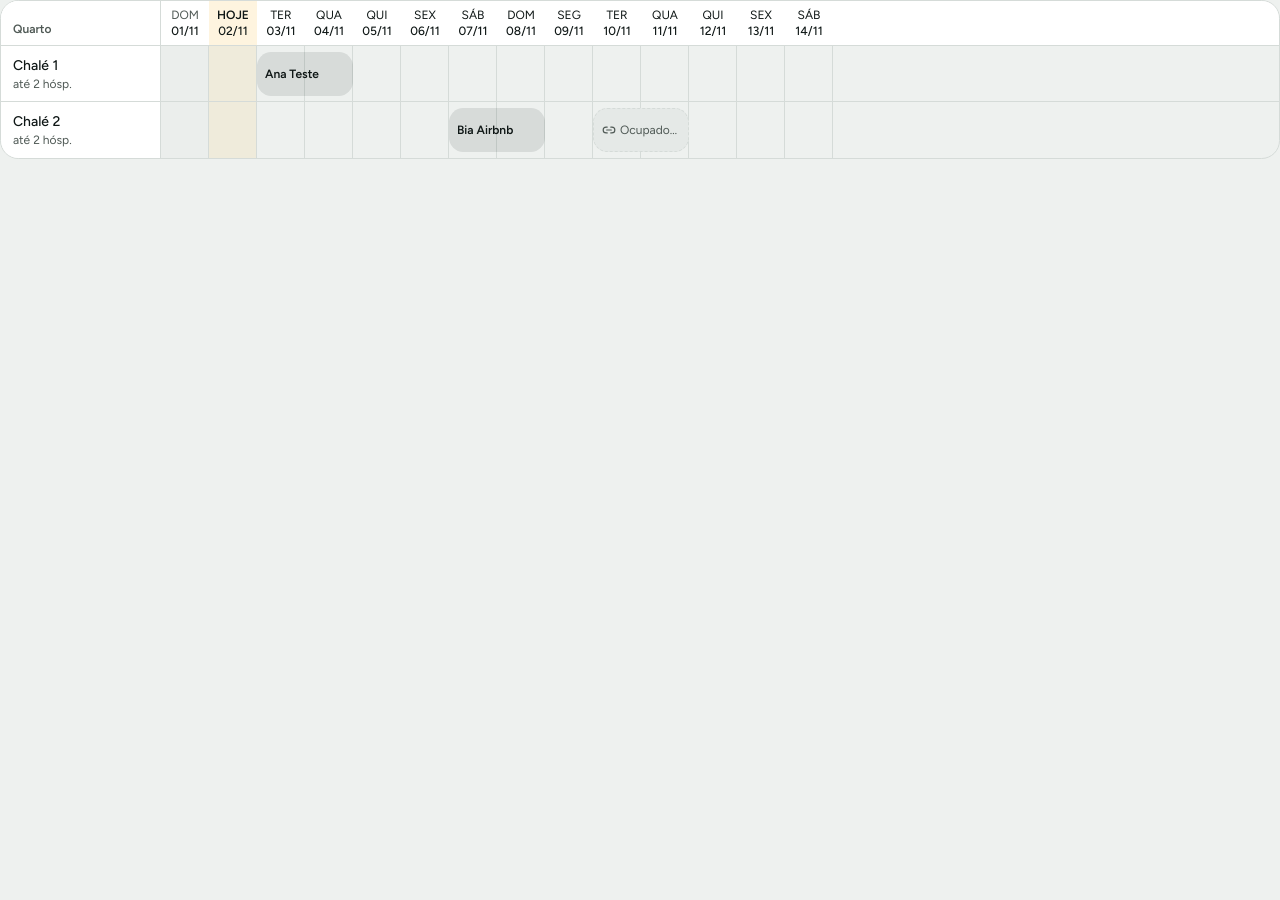
it: mapa de ocupação › escolher o valor novo manda só o pedido, nunca o número
Later steps or results of the test are not shown.
Click the button with aria-label "Ana Teste, Chalé 1". click: (305, 74)
box: [257, 52, 353, 96]
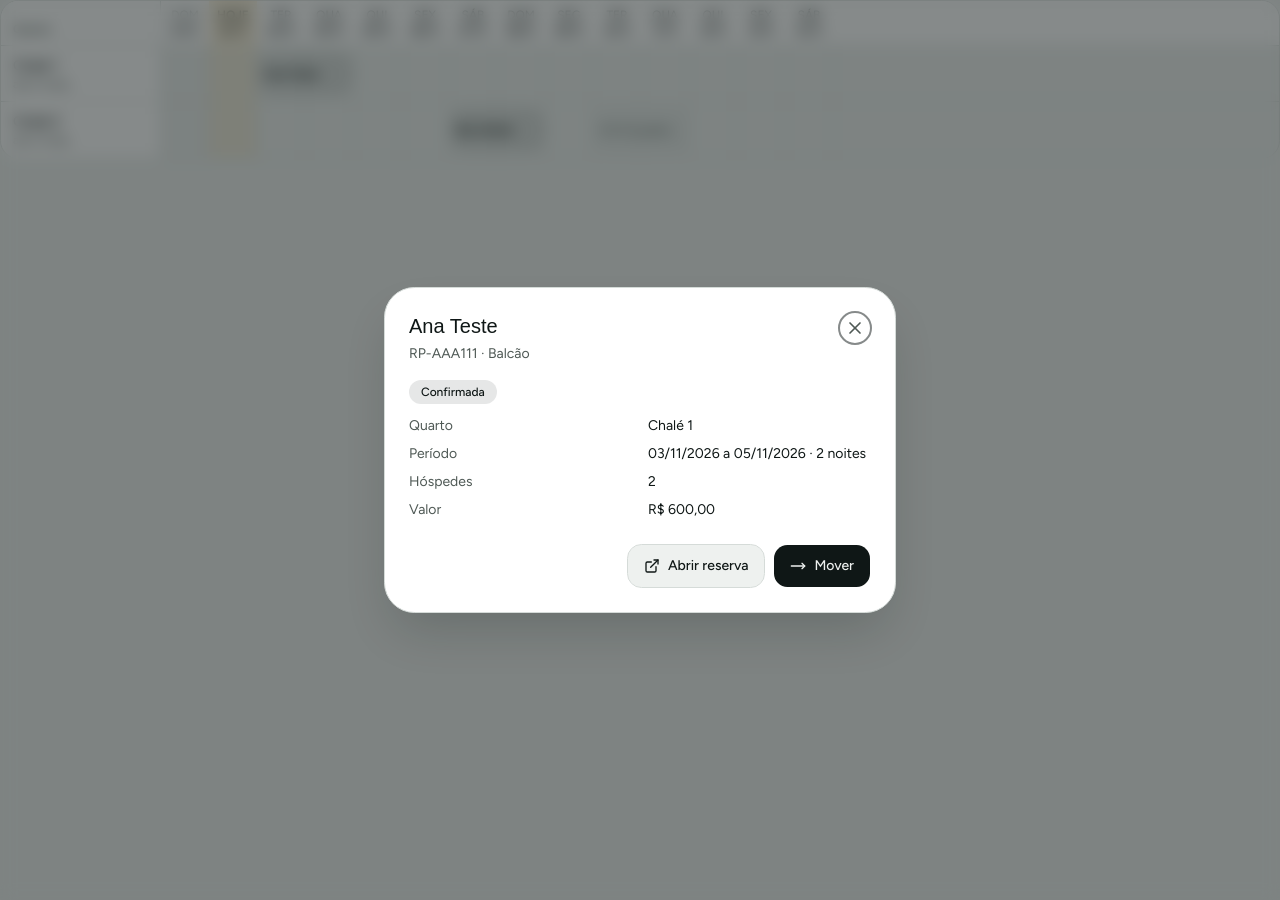
Click the button "Mover". click: (822, 566)
box: [773, 544, 871, 588]
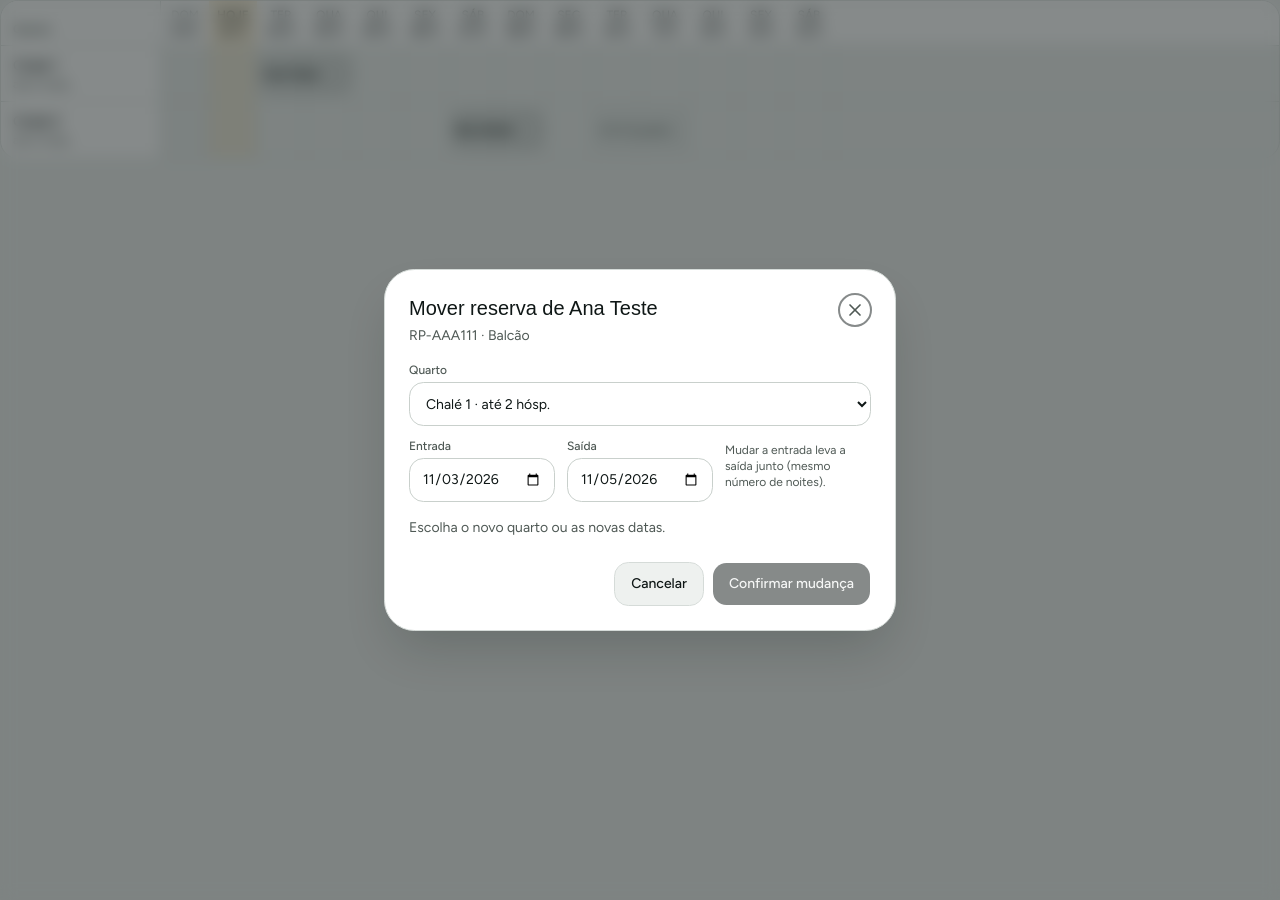
Type "2026-11-06" into the date field labelled "Saída". click: (640, 480)
box: [567, 458, 713, 502]
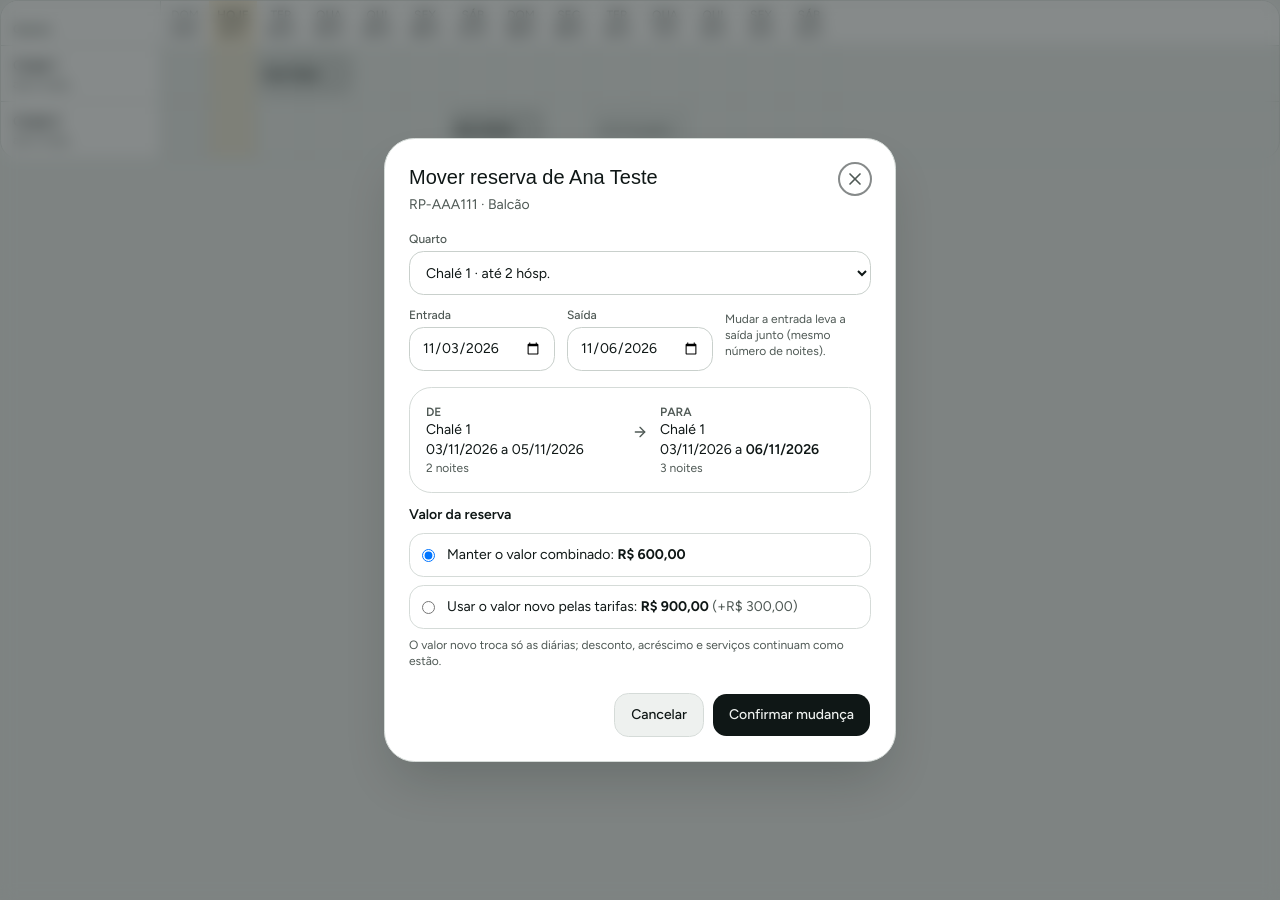
expect the text "Usar o valor novo pelas tarifas: R$ 900,00 (+R$ 300,00)" is shown: met, box [447, 597, 798, 617]
